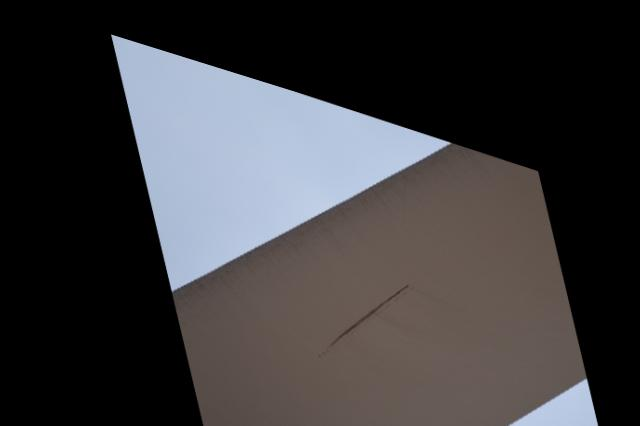damage: (294, 231, 422, 357)
